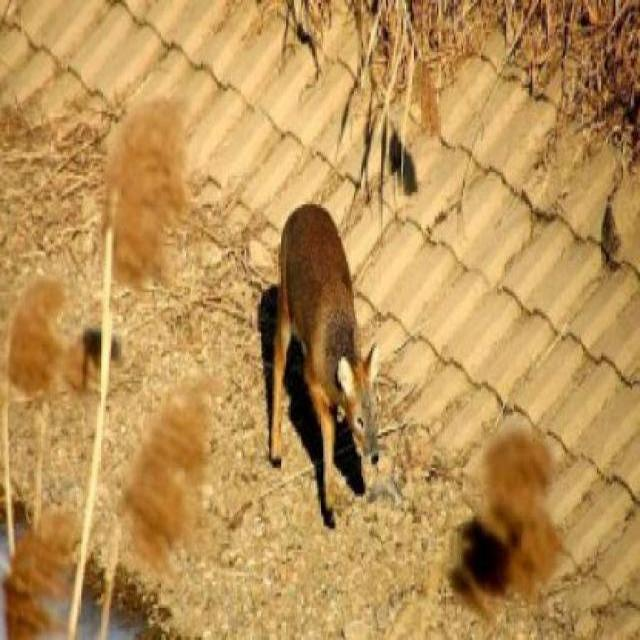deer: (264, 201, 382, 527)
